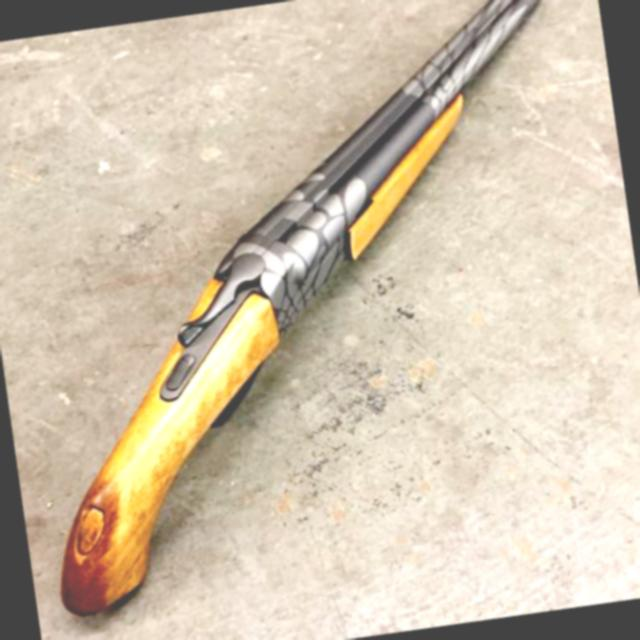shotgun: (0, 0, 623, 631)
